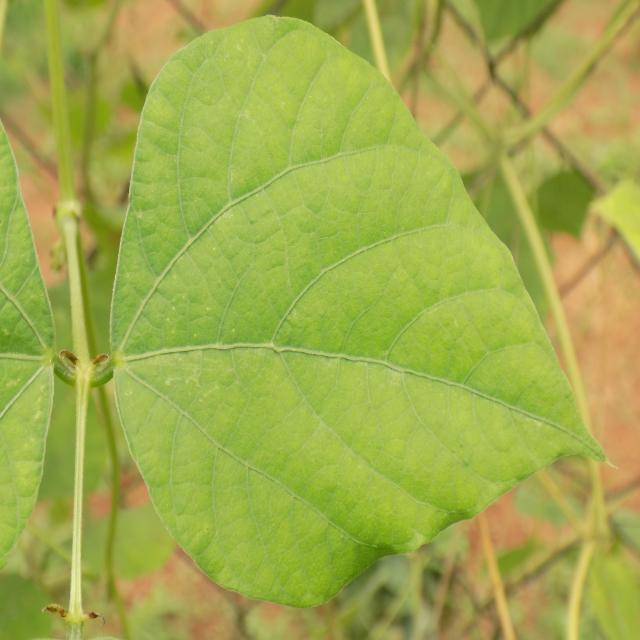Dolicos bean_cercospora leaf spot: (107, 9, 608, 608)
